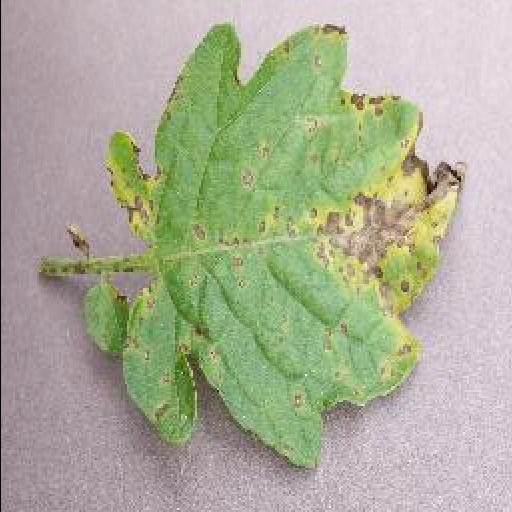disease_tomato: (106, 24, 464, 474)
